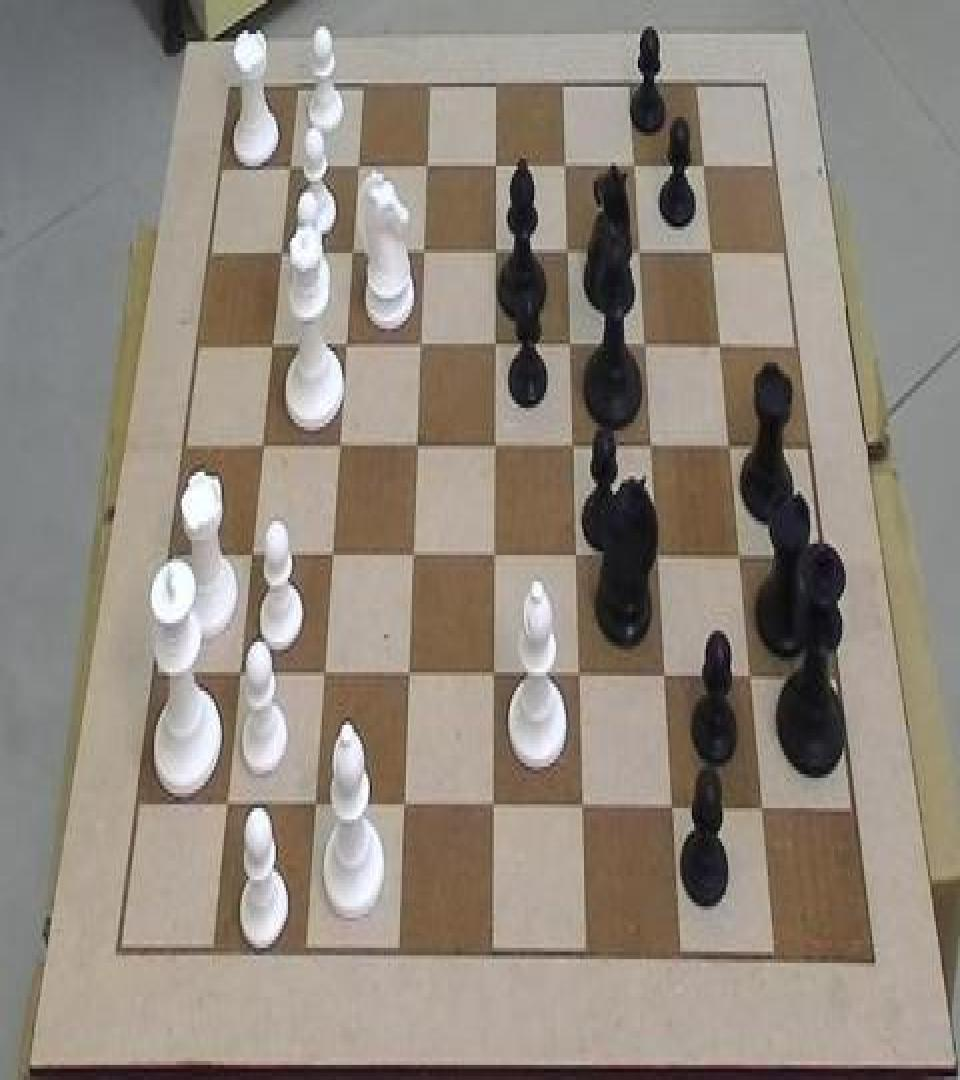xcorner: (693, 142, 713, 180), (623, 142, 643, 180), (553, 142, 573, 180), (484, 144, 504, 182), (415, 144, 435, 182), (346, 144, 366, 182), (278, 144, 298, 182), (701, 228, 721, 266), (628, 228, 648, 266), (556, 228, 576, 266), (484, 228, 504, 266), (412, 228, 432, 266), (341, 228, 361, 266), (269, 230, 289, 268), (710, 322, 730, 360), (634, 322, 654, 360), (559, 322, 579, 360), (484, 322, 504, 360), (409, 322, 429, 360), (335, 322, 355, 360), (261, 322, 281, 360), (719, 424, 739, 462), (640, 423, 660, 461), (562, 423, 582, 461), (484, 423, 504, 461), (406, 423, 426, 461), (329, 423, 349, 461), (251, 423, 271, 461), (729, 534, 749, 572), (647, 534, 667, 572), (565, 534, 585, 572), (484, 534, 504, 572), (403, 534, 423, 572), (322, 532, 342, 570), (241, 532, 261, 570), (741, 655, 761, 693), (655, 655, 675, 693), (569, 655, 589, 693), (484, 655, 504, 693), (399, 653, 419, 691), (314, 653, 334, 691), (230, 653, 250, 691), (753, 789, 773, 827), (663, 787, 683, 825), (573, 787, 593, 825), (484, 786, 504, 824), (395, 786, 415, 824), (306, 786, 326, 824), (217, 784, 237, 822)
